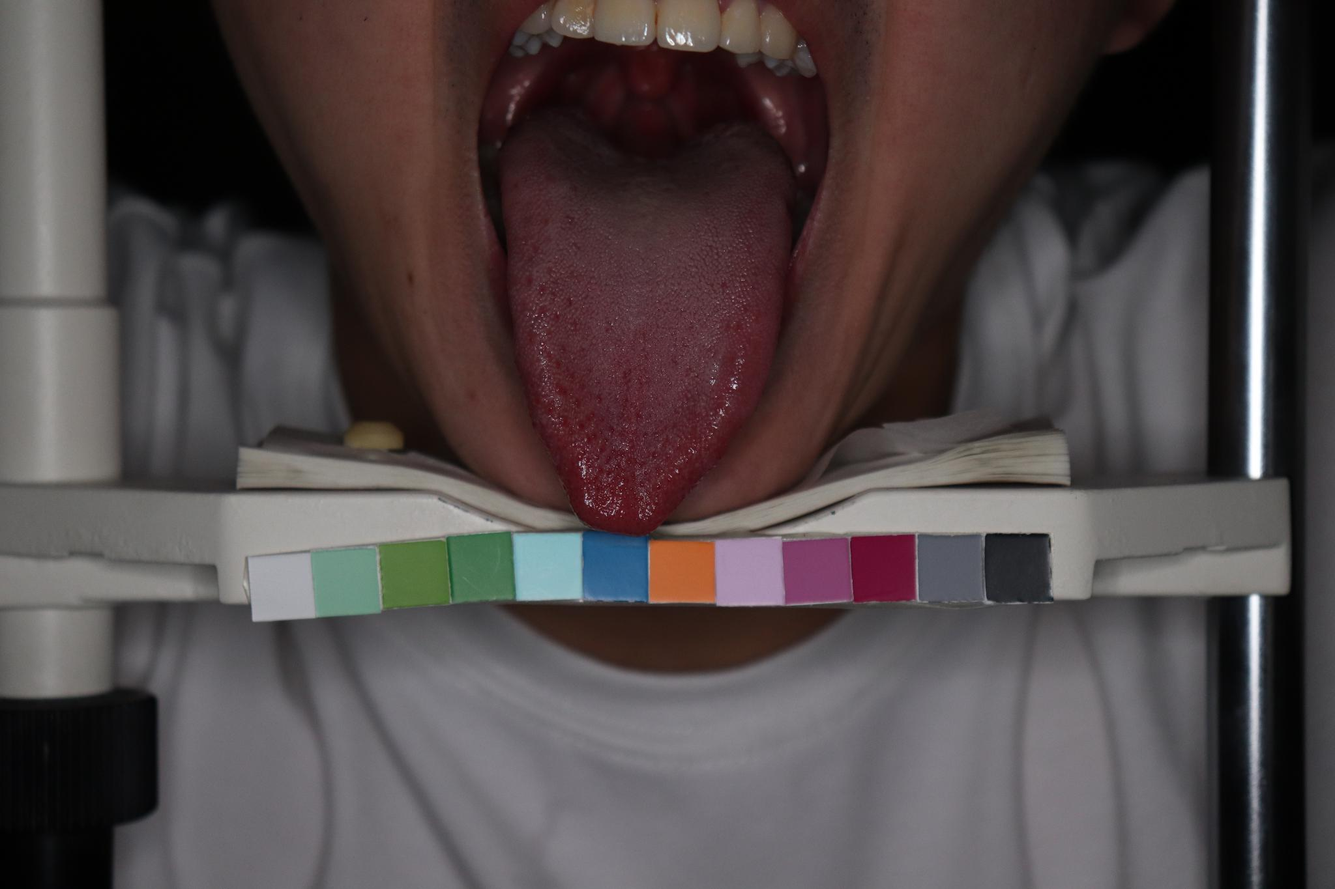baitaishe: (497, 107, 795, 539)
hongdianshe: (535, 283, 548, 298), (594, 391, 604, 405), (585, 411, 595, 419), (640, 430, 648, 440), (608, 448, 616, 455)
hongshe: (497, 107, 795, 538)
shenquao: (548, 109, 743, 171)
